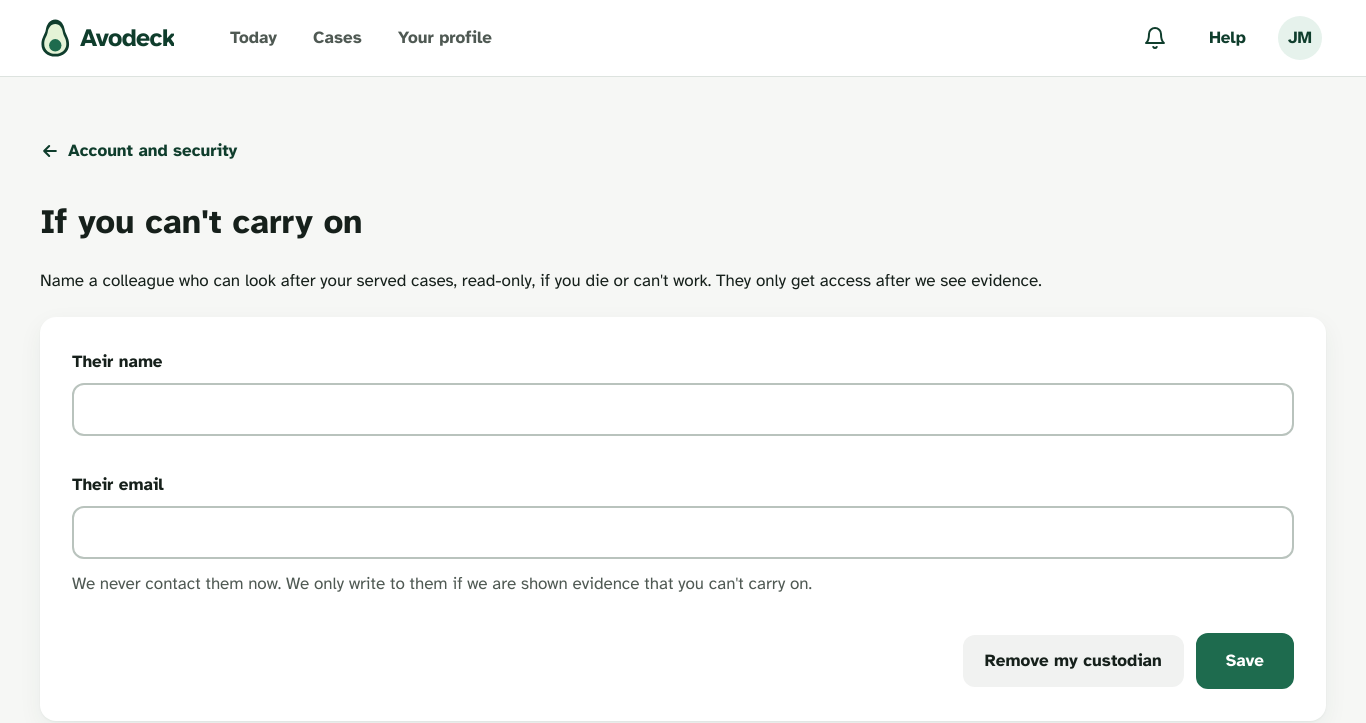
Test: removes the custodian
Click the button "Remove my custodian".
click(1073, 660)  # box top-left (963, 634), bottom-right (1184, 686)
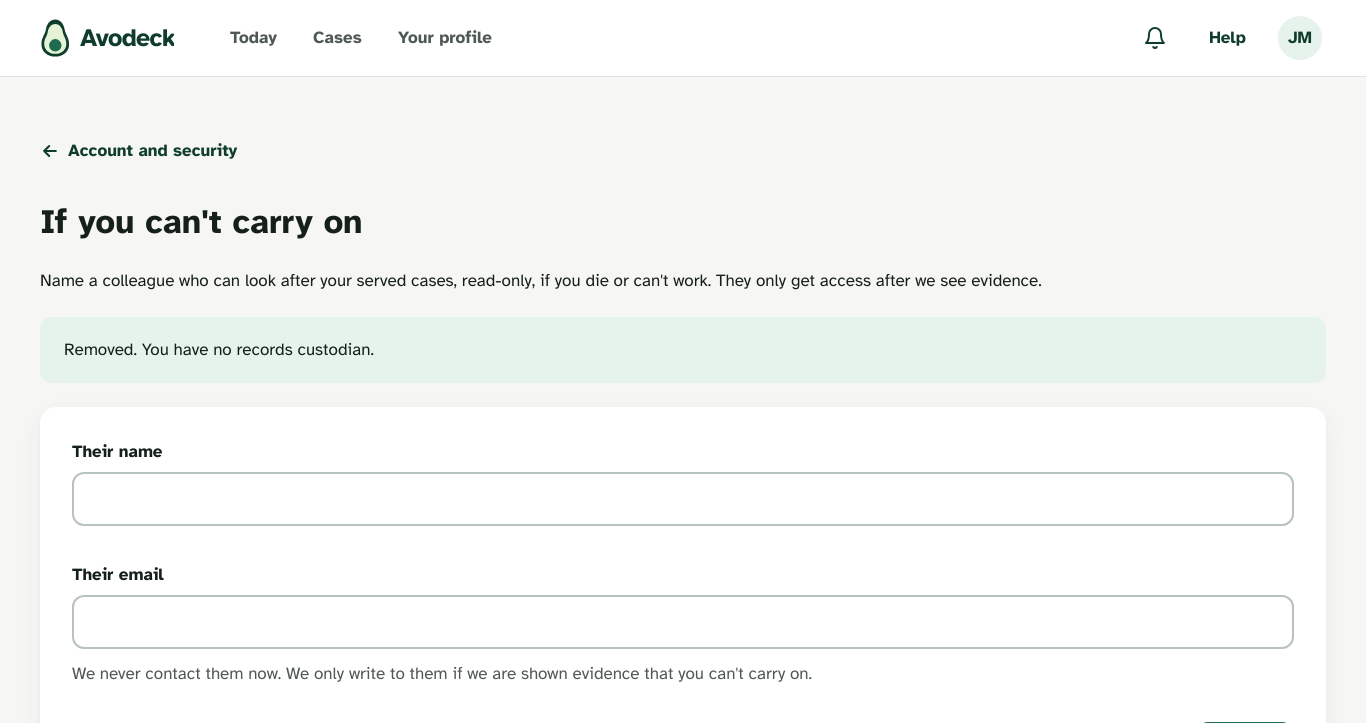
Expected: the text "Removed. You have no records custodian." is shown, top-left (64, 339), bottom-right (374, 360)
